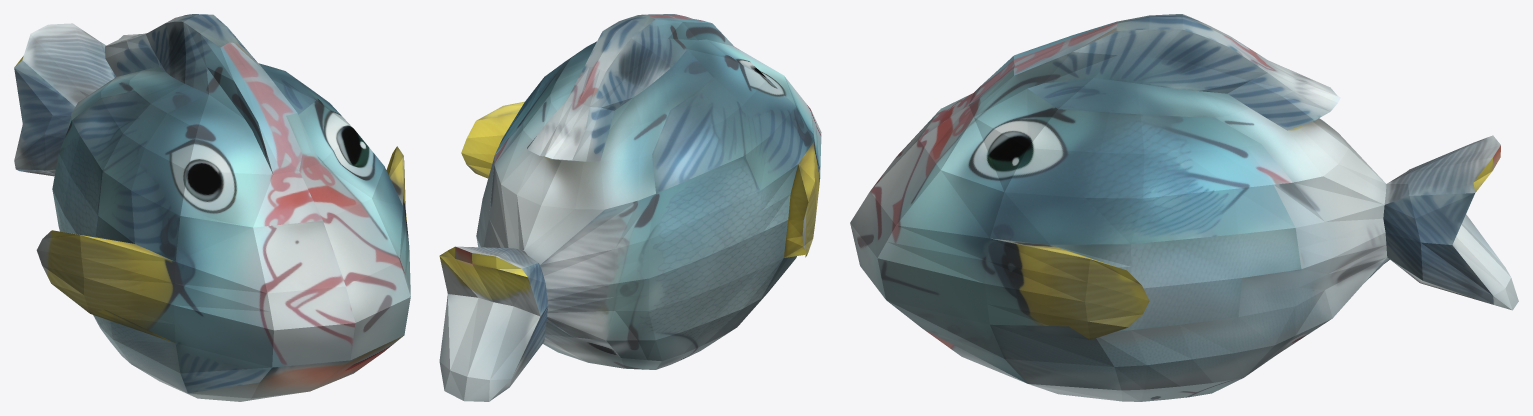
3 views of the same model, side by side, from view 1: azimuth 30°, elevation 25°; view 2: azimuth 150°, elevation 25°; view 3: azimuth 270°, elevation 25° (orthographic). The views are drawn at different scales.
Visible parts, largest first — view 1: mesh.006; view 2: mesh.006; view 3: mesh.006.
Part boxes in pixels (box(x1,y1,x2,y2)): mesh.006: box(14, 14, 410, 401); mesh.006: box(439, 14, 821, 401); mesh.006: box(850, 14, 1518, 401).
Bounding box in the file's own units: 0.7392 × 0.6802 × 1.14.
1 material, 1 textured.
